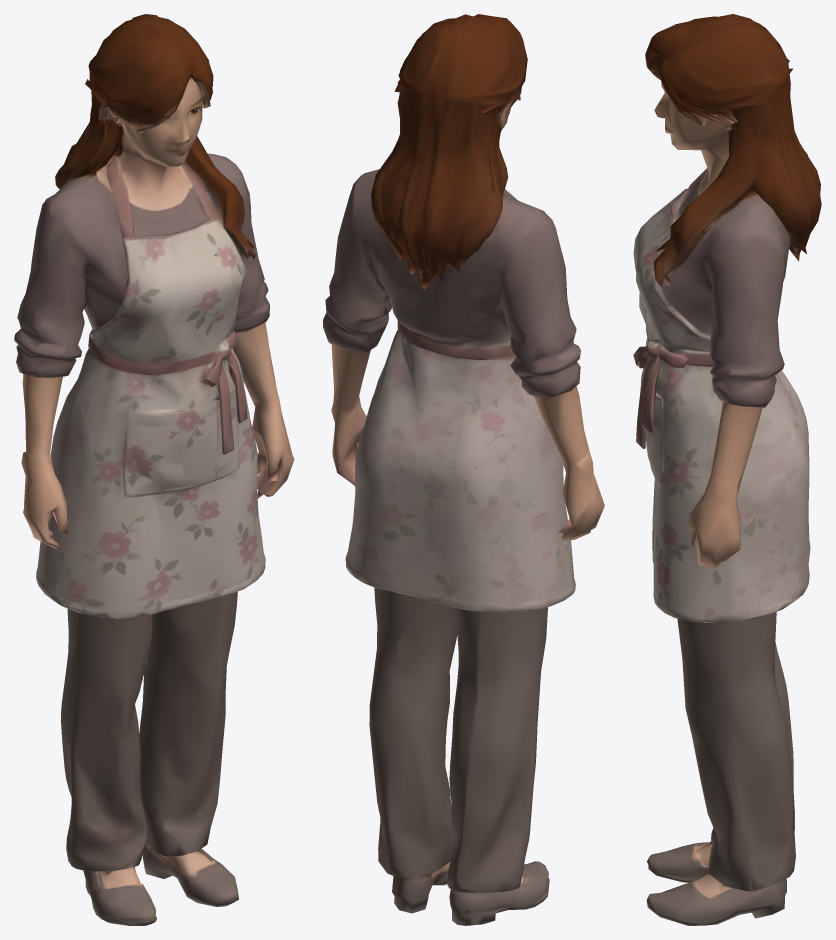
File: CHR_OTHER_NPCS_MOTHER_v001_RAW.glb
The picture shows the model from 3 angles, left to right: view 1: azimuth 30°, elevation 25°; view 2: azimuth 150°, elevation 25°; view 3: azimuth 270°, elevation 25°; orthographic projection.
Parts seen in each view (by area): view 1: tripo_node_4146d825-8337-45c4-8e50-82f1216d9e11; view 2: tripo_node_4146d825-8337-45c4-8e50-82f1216d9e11; view 3: tripo_node_4146d825-8337-45c4-8e50-82f1216d9e11.
Part boxes in pixels (x1,y1,x2,y2): tripo_node_4146d825-8337-45c4-8e50-82f1216d9e11: (14,14,294,925); tripo_node_4146d825-8337-45c4-8e50-82f1216d9e11: (323,14,604,925); tripo_node_4146d825-8337-45c4-8e50-82f1216d9e11: (633,14,821,925).
Bounding box in the file's own units: 0.308 × 0.9787 × 0.1902.
1 material, 1 textured.
